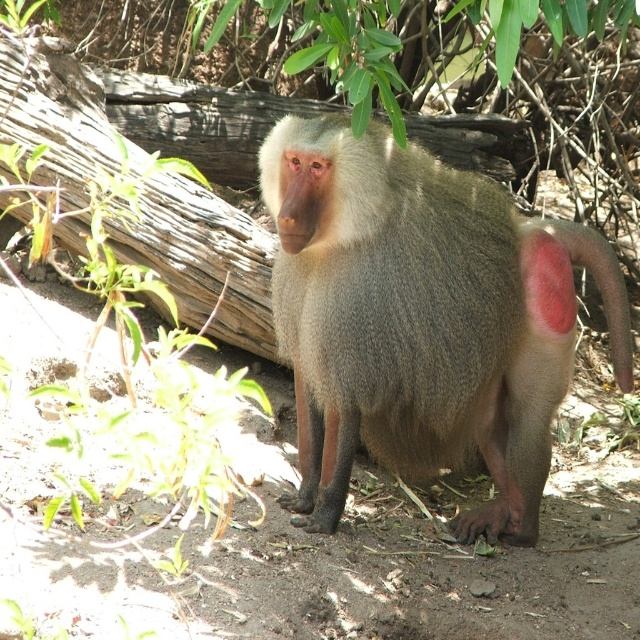Monkey: (257, 109, 633, 544)
